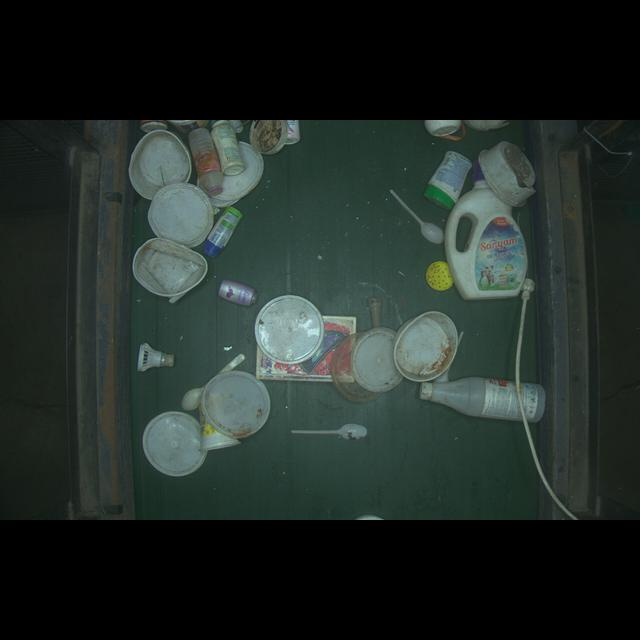mix PP: (442, 174, 531, 297), (421, 379, 550, 424), (423, 151, 469, 210), (136, 336, 178, 376), (217, 277, 261, 306)
